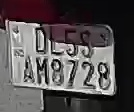2: (78, 59, 96, 90)
5: (62, 28, 79, 58)
7: (63, 55, 80, 88)
8: (96, 62, 112, 92), (49, 59, 66, 87)
A: (19, 57, 37, 86)
D: (32, 25, 49, 56)
L: (47, 27, 64, 57)
M: (33, 57, 51, 84)
S: (78, 29, 94, 58)
